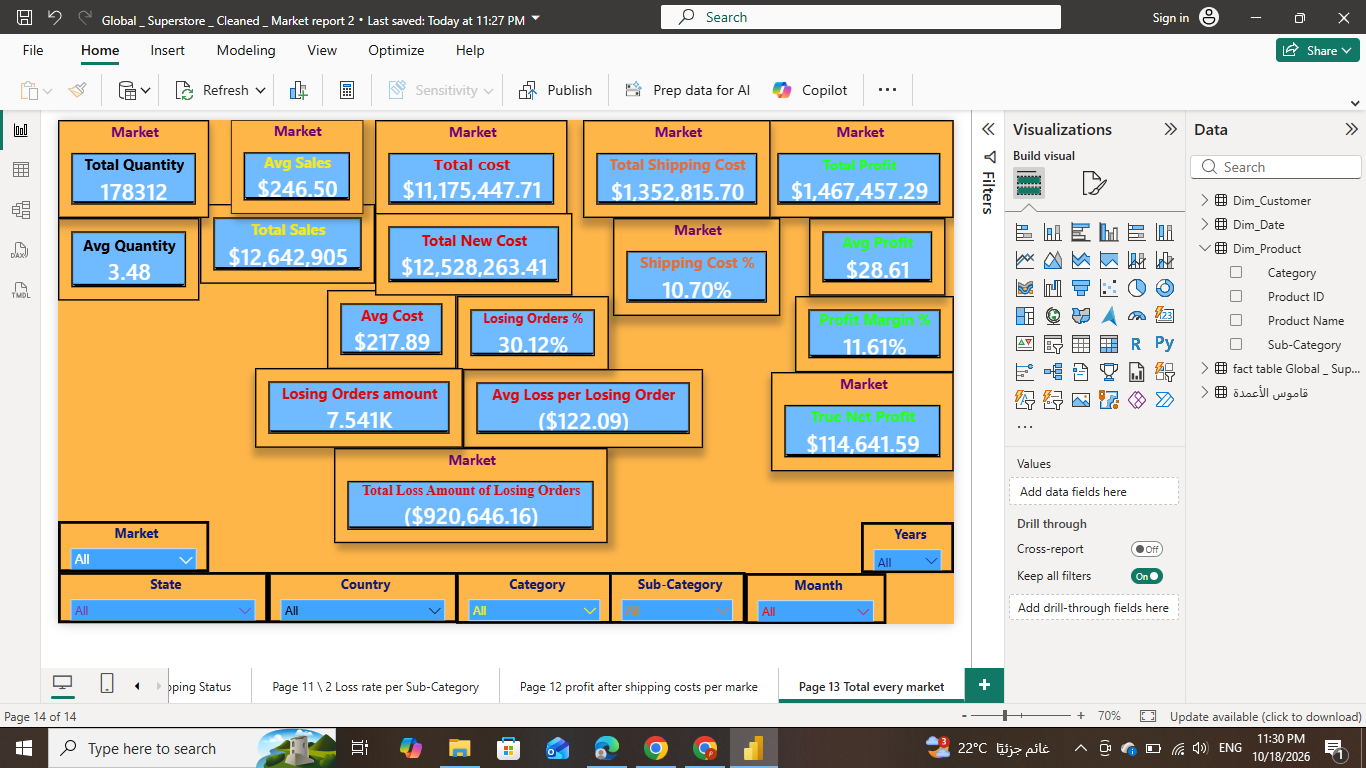

The page's visual inventory and layout, read from the dashboard file:
{"tool":"powerbi","page":{"name":"Page 13 Total every  market","canvas":[1280,720],"ordinal":13},"visuals":[{"type":"cardVisual","title":"Market","fields":{"Data":["fact table Global _ Superstore _ Cleaned.Total cost"]},"box":[452.8,0,275.3,140.4],"z":0},{"type":"cardVisual","title":"Market","fields":{"Data":["fact table Global _ Superstore _ Cleaned.Total Sales"]},"box":[202.3,119.7,250.5,114.2],"z":1000},{"type":"cardVisual","title":"Market","fields":{"Data":["fact table Global _ Superstore _ Cleaned.Avg Loss per Losing Order"]},"box":[578.2,355.8,343.3,112.6],"z":2000},{"type":"cardVisual","title":"Market","fields":{"Data":["fact table Global _ Superstore _ Cleaned.Total Loss Amount"]},"box":[394.7,468.4,390.5,136.2],"z":3000},{"type":"cardVisual","title":"Market","fields":{"Data":["fact table Global _ Superstore _ Cleaned.Profit Margin %"]},"box":[1052.9,251.9,227.1,108.7],"z":4000},{"type":"cardVisual","title":"Market","fields":{"Data":["fact table Global _ Superstore _ Cleaned.Avg Profit"]},"box":[1072.2,140.4,195.4,111.5],"z":5000},{"type":"cardVisual","title":"Market","fields":{"Data":["fact table Global _ Superstore _ Cleaned.Total Profit"]},"box":[1008.9,0,271.1,140.4],"z":6000},{"type":"cardVisual","title":"Market","fields":{"Data":["fact table Global _ Superstore _ Cleaned.Avg Quantity"]},"box":[0,140.4,202.3,118.4],"z":7000},{"type":"cardVisual","title":"Market","fields":{"Data":["fact table Global _ Superstore _ Cleaned.Total Quantity"]},"box":[0,0,216.1,140.4],"z":8000},{"type":"cardVisual","title":"Market","fields":{"Data":["fact table Global _ Superstore _ Cleaned.Avg Cost"]},"box":[383.6,243.2,184.8,112.6],"z":9000},{"type":"cardVisual","title":"Market","fields":{"Data":["fact table Global _ Superstore _ Cleaned.Avg Sales"]},"box":[247.7,0,188.6,133.5],"z":10000},{"type":"slicer","title":"State","fields":{"Values":["fact table Global _ Superstore _ Cleaned.Order ID"]},"box":[0,645.5,300,72.9],"z":11000},{"type":"slicer","title":"Country","fields":{"Values":["Dim_Customer.Country"]},"box":[300,645.5,271.1,72.9],"z":12000},{"type":"slicer","title":"Category","fields":{"Values":["Dim_Product.Sub-Category"]},"box":[568.4,645.5,224.3,74.3],"z":13000},{"type":"slicer","title":"Sub-Category","fields":{"Values":["Dim_Product.Sub-Category"]},"box":[787.3,645.5,195.4,74.3],"z":14000},{"type":"slicer","title":"Moanth","fields":{"Values":["Dim_Date.Month Name","Dim_Date.Month"]},"box":[982.1,647,201.7,72.9],"z":15000},{"type":"slicer","title":"Years ","fields":{"Values":["Dim_Date.Year"]},"box":[1146.6,574.1,133.4,72.9],"z":16000},{"type":"slicer","title":"Market","fields":{"Values":["Dim_Customer.Market"]},"box":[0,572.6,216.1,72.9],"z":17000},{"type":"cardVisual","title":"Market","fields":{"Data":["fact table Global _ Superstore _ Cleaned.True Net Profit"]},"box":[1018.7,360,261.3,141.8],"z":18000},{"type":"cardVisual","title":"Market","fields":{"Data":["fact table Global _ Superstore _ Cleaned.Shipping Cost %"]},"box":[792.2,140.4,239,140.4],"z":19000},{"type":"cardVisual","title":"Market","fields":{"Data":["fact table Global _ Superstore _ Cleaned.Total Shipping Cost"]},"box":[750.1,0,268.4,140.4],"z":20000},{"type":"cardVisual","title":"Market","fields":{"Data":["fact table Global _ Superstore _ Cleaned.Losing Orders %"]},"box":[569.8,251.6,216.8,105.6],"z":21000},{"type":"cardVisual","fields":{"Data":["fact table Global _ Superstore _ Cleaned.Total New Cost"]},"box":[453.1,133.4,282.1,118.1],"z":22000},{"type":"cardVisual","fields":{"Data":["fact table Global _ Superstore _ Cleaned.Losing Orders amount"]},"box":[280.7,354.4,297.4,114],"z":23000}]}

Visuals, with their boxes on the page's 1280x720 design canvas (x1, y1, x2, y2). These are canvas units, not pixel positions in the 1366x768 screenshot, which may show the page scaled, cropped or inside an application window:
"Market" cardVisual: box(453, 0, 728, 140)
"Market" cardVisual: box(202, 120, 453, 234)
"Market" cardVisual: box(578, 356, 922, 468)
"Market" cardVisual: box(395, 468, 785, 605)
"Market" cardVisual: box(1053, 252, 1280, 361)
"Market" cardVisual: box(1072, 140, 1268, 252)
"Market" cardVisual: box(1009, 0, 1280, 140)
"Market" cardVisual: box(0, 140, 202, 259)
"Market" cardVisual: box(0, 0, 216, 140)
"Market" cardVisual: box(384, 243, 568, 356)
"Market" cardVisual: box(248, 0, 436, 134)
"State" slicer: box(0, 646, 300, 718)
"Country" slicer: box(300, 646, 571, 718)
"Category" slicer: box(568, 646, 793, 720)
"Sub-Category" slicer: box(787, 646, 983, 720)
"Moanth" slicer: box(982, 647, 1184, 720)
"Years " slicer: box(1147, 574, 1280, 647)
"Market" slicer: box(0, 573, 216, 646)
"Market" cardVisual: box(1019, 360, 1280, 502)
"Market" cardVisual: box(792, 140, 1031, 281)
"Market" cardVisual: box(750, 0, 1018, 140)
"Market" cardVisual: box(570, 252, 787, 357)
cardVisual - fact table Global _ Superstore _ Cleaned.Total New Cost: box(453, 133, 735, 252)
cardVisual - fact table Global _ Superstore _ Cleaned.Losing Orders amount: box(281, 354, 578, 468)
